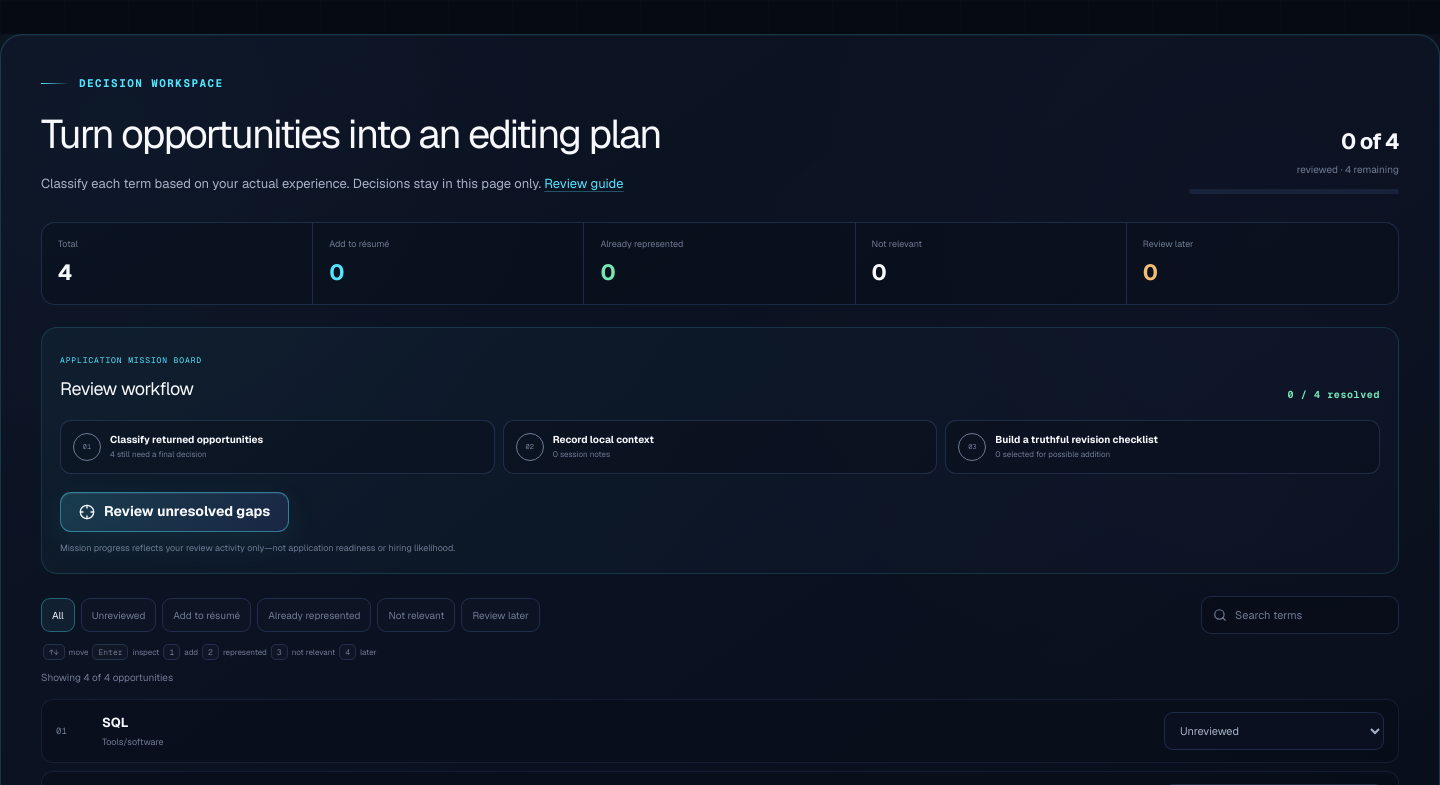
Test: ReviewWorkspace › requires confirmation to reset decisions
Select "Add to résumé" in the dropdown named "Review status for SQL" in the row of "SQL" at (1274, 731), box [1164, 712, 1384, 750]
(page scrolled)
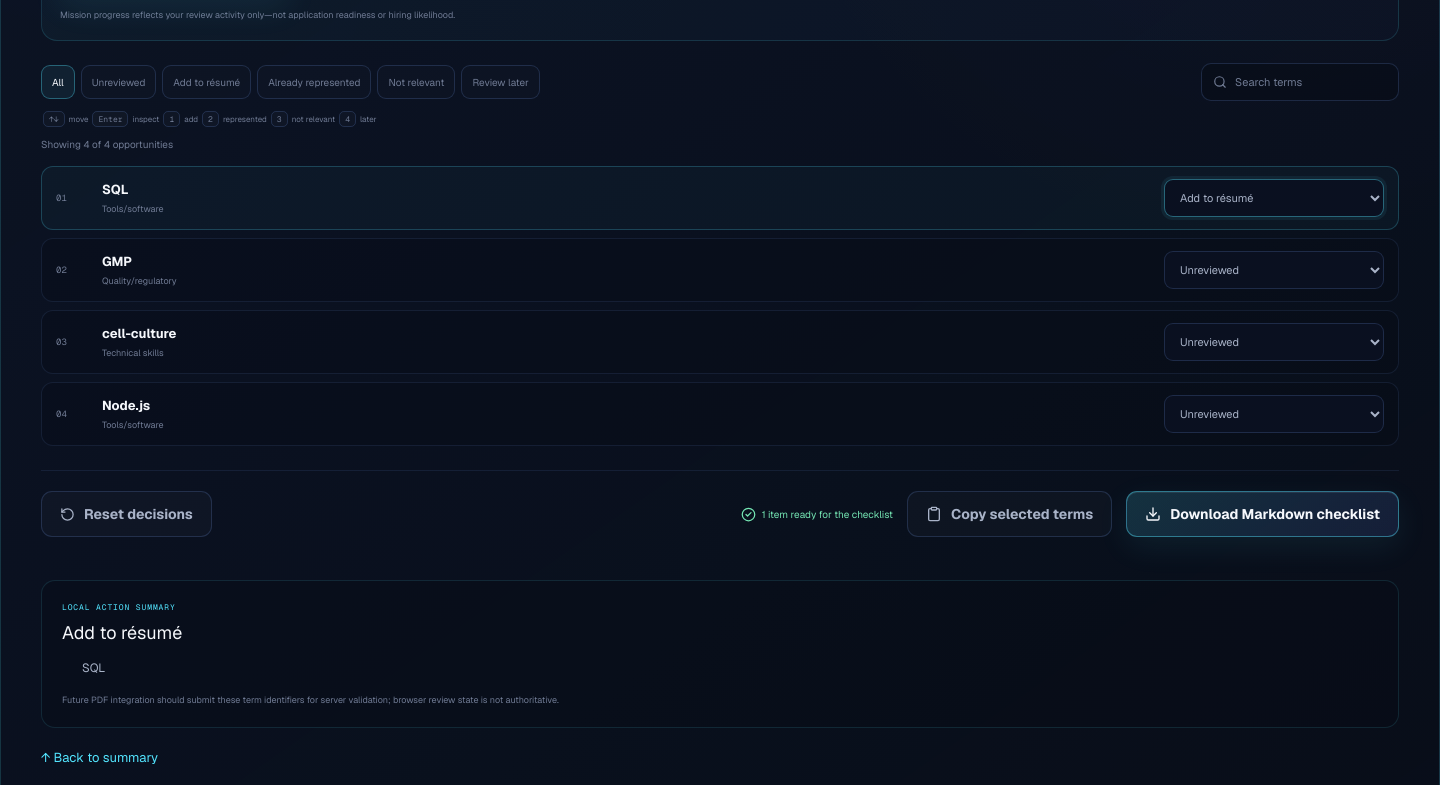
Click the button "Reset decisions" at (126, 514), box [41, 491, 212, 537]
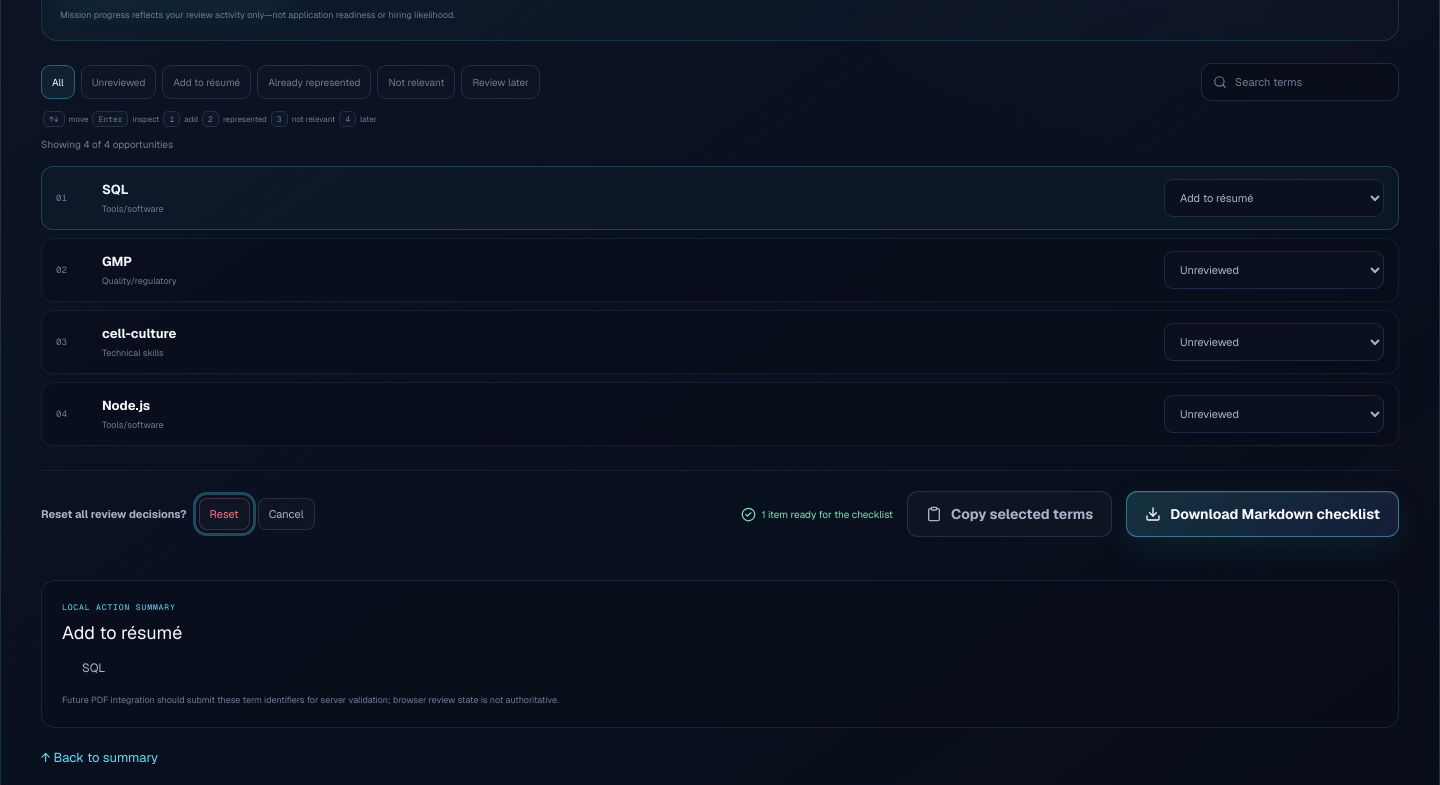
Check: the dialog is shown, box [41, 498, 315, 530]
Click the button "Cancel" at (286, 514), box [258, 498, 315, 530]
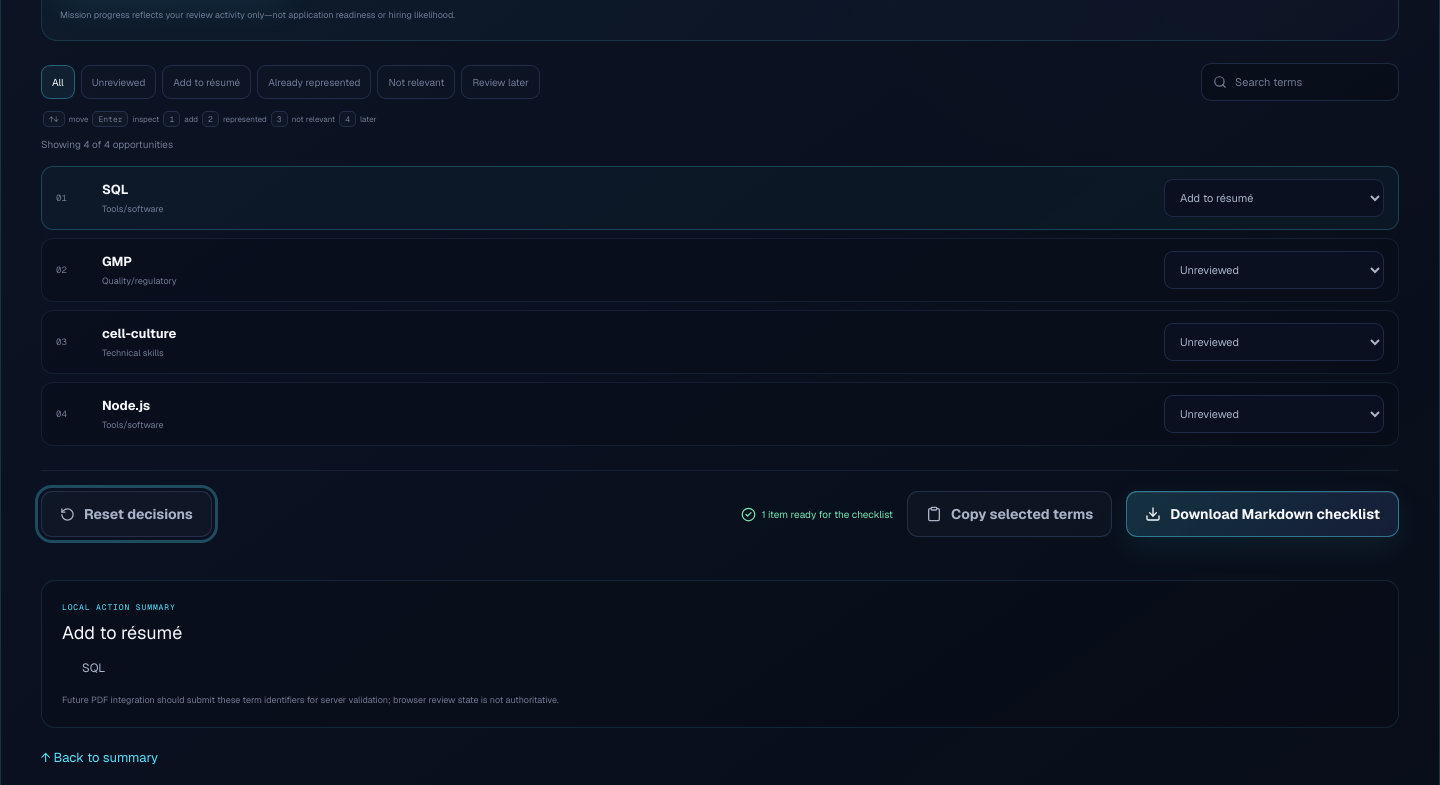
Click the button "Reset decisions" at (126, 514), box [41, 491, 212, 537]
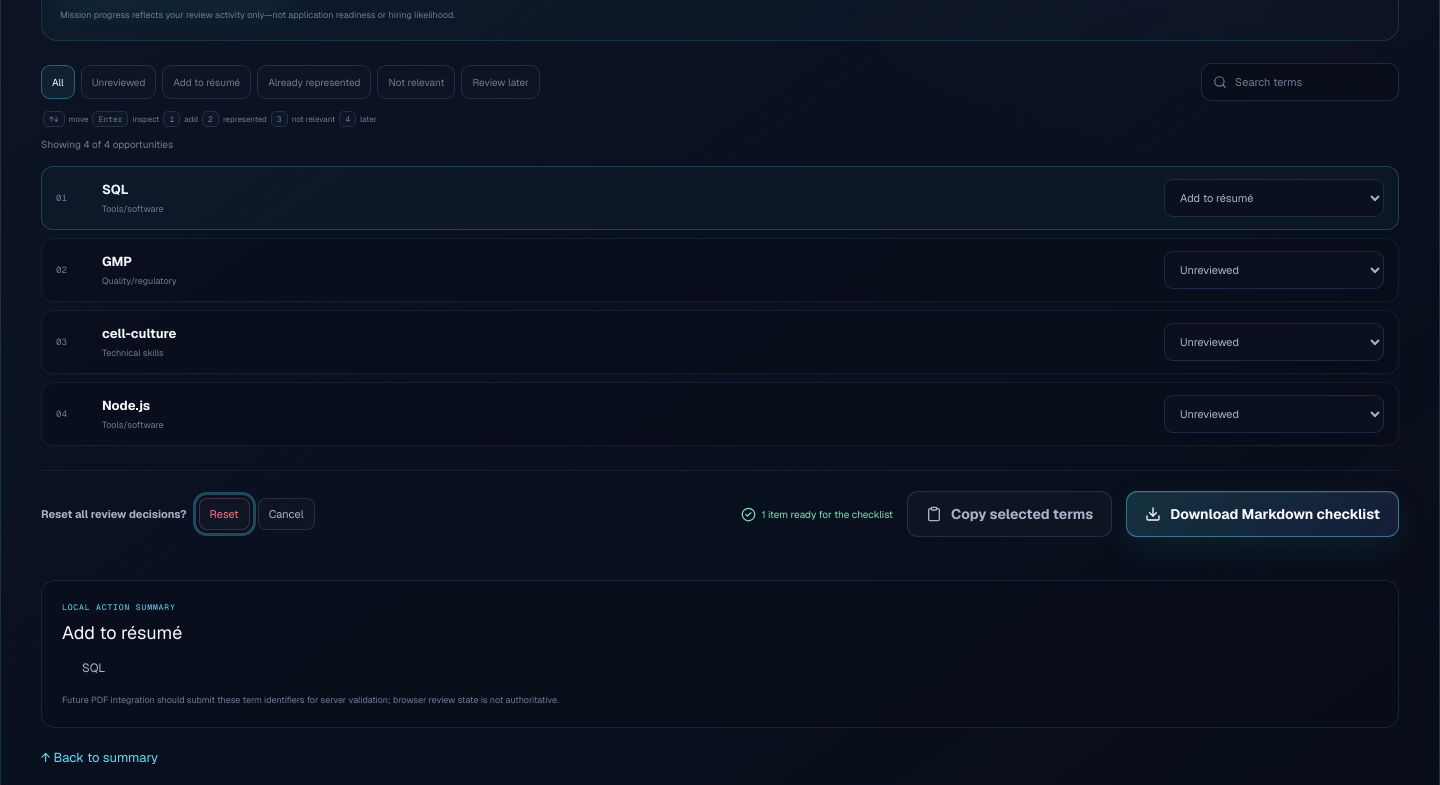
Click the button "Reset" at (224, 514), box [199, 498, 250, 530]
(page scrolled)
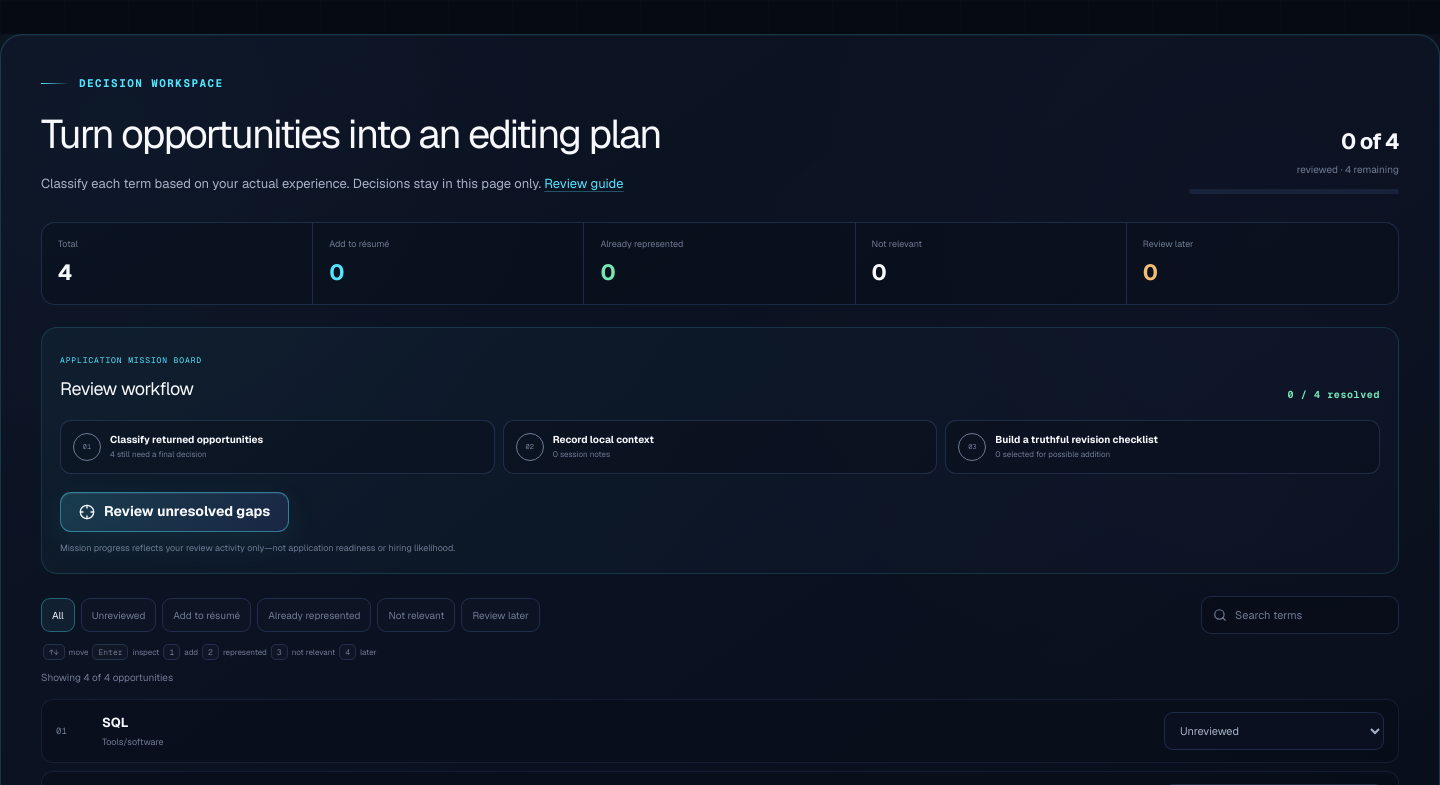
Check: the text "0 of 4" is shown, box [1341, 127, 1399, 155]
